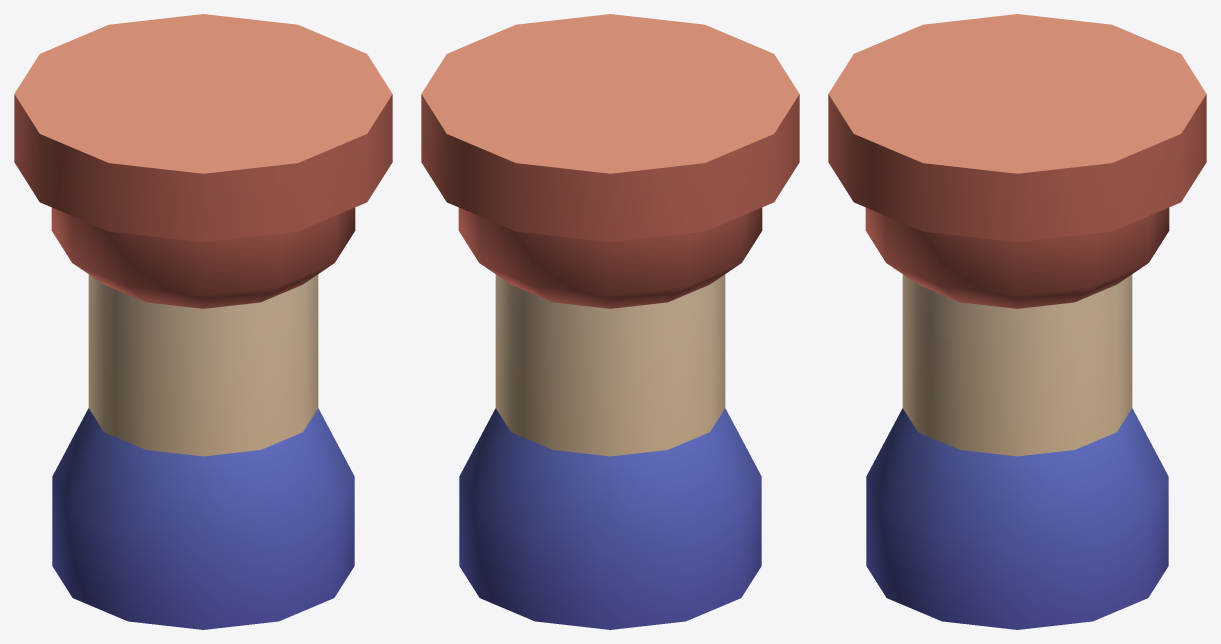
Rendered from column.obj.
3 views of the same model, side by side, from view 1: azimuth 30°, elevation 25°; view 2: azimuth 150°, elevation 25°; view 3: azimuth 270°, elevation 25° (orthographic).
Parts seen in each view (by area): view 1: column; view 2: column; view 3: column.
Boxes of the visible parts, <box> form: column: <box>14,14,392,629</box>; column: <box>421,14,799,629</box>; column: <box>828,14,1206,629</box>.
Bounding box in the file's own units: 0.7258 × 1 × 0.7258.
